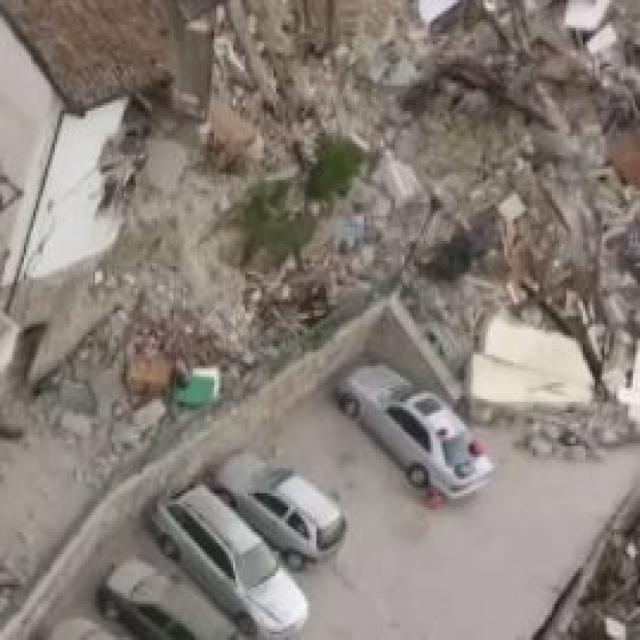collapsed_building: (61, 0, 637, 296)
